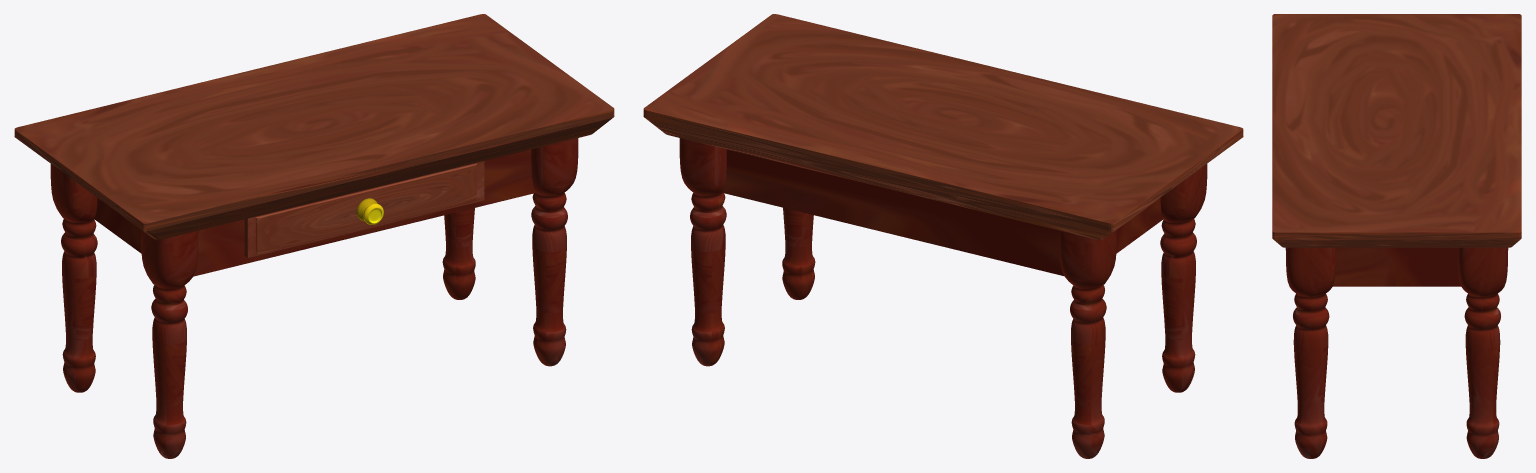
File: mesa4.glb
3 renders of one model, left to right at view 1: azimuth 30°, elevation 25°; view 2: azimuth 150°, elevation 25°; view 3: azimuth 270°, elevation 25°, orthographic. The views are drawn at different scales.
Visible parts, largest first — view 1: Cube, Cube.001, Plane.001, Plane; view 2: Cube, Cube.001, Plane; view 3: Cube, Cube.001, Plane.
Boxes of the visible parts, x1,y1,x2,y2 form: Cube: (14, 14, 614, 240); Cube.001: (50, 138, 578, 458); Plane.001: (244, 161, 484, 257); Plane: (94, 149, 536, 276); Cube: (643, 14, 1243, 240); Cube.001: (679, 138, 1207, 458); Plane: (721, 149, 1163, 275); Cube: (1272, 14, 1521, 247); Cube.001: (1285, 247, 1508, 458); Plane: (1333, 247, 1460, 286).
Size of the model in its own units: 5.41 by 2.84 by 2.61.
5 materials, 5 textured.
